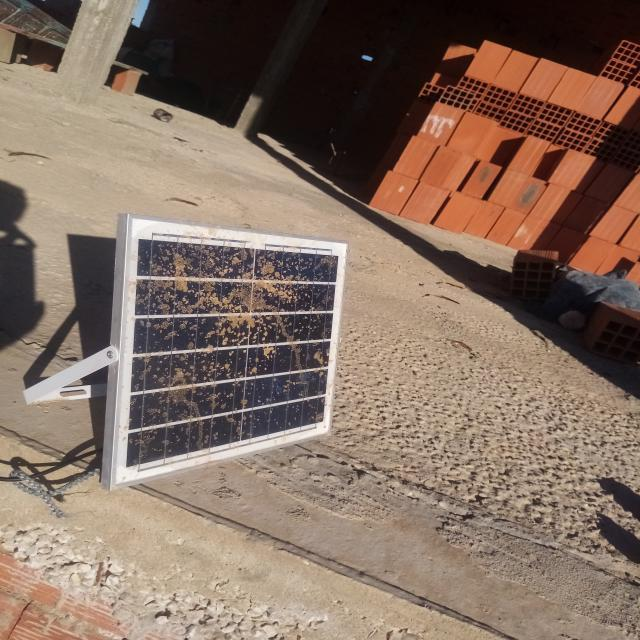faulty: (114, 216, 349, 488)
